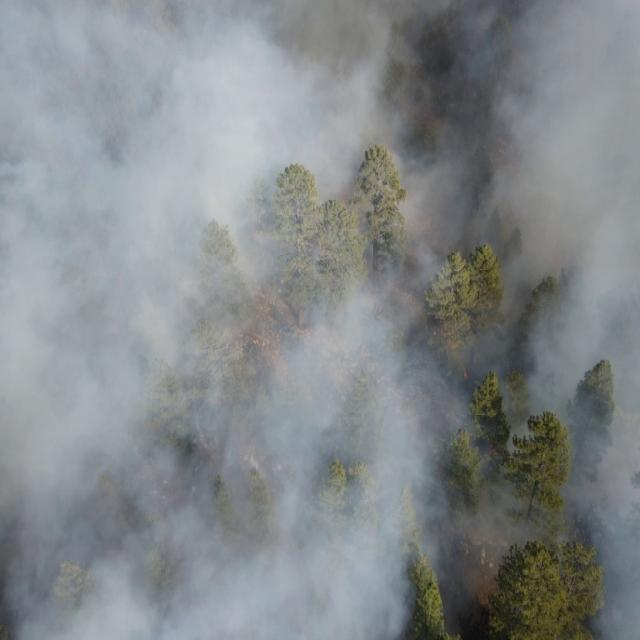smoke: (0, 0, 416, 640), (417, 0, 640, 576), (590, 576, 640, 640)
